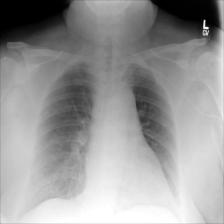normal: (32, 61, 180, 200)
